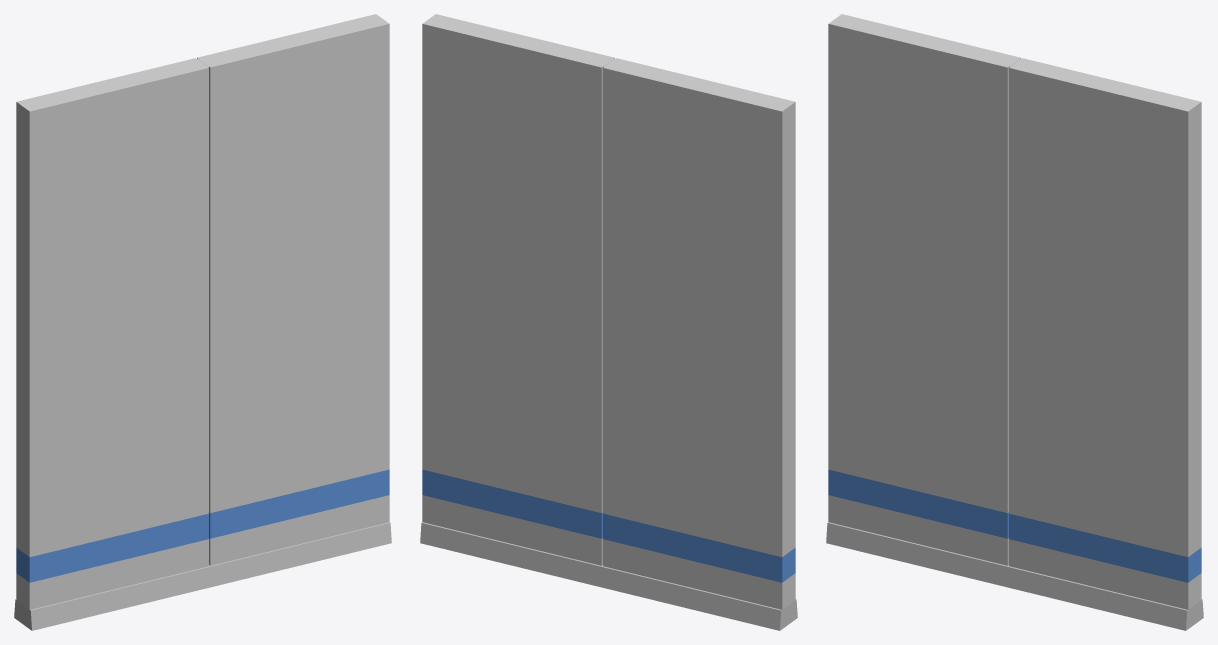
The model's file is Wall60's(LabHigh).fbx.
3 renders of one model, left to right at view 1: azimuth 30°, elevation 25°; view 2: azimuth 150°, elevation 25°; view 3: azimuth 330°, elevation 25°, orthographic.
Visible parts, largest first — view 1: Cube.058; view 2: Cube.058; view 3: Cube.058.
Part boxes in pixels (<box>): Cube.058: <box>14,14,391,630</box>; Cube.058: <box>420,14,797,630</box>; Cube.058: <box>826,14,1203,630</box>.
Size of the model in its own units: 800 by 1100 by 69.07.
